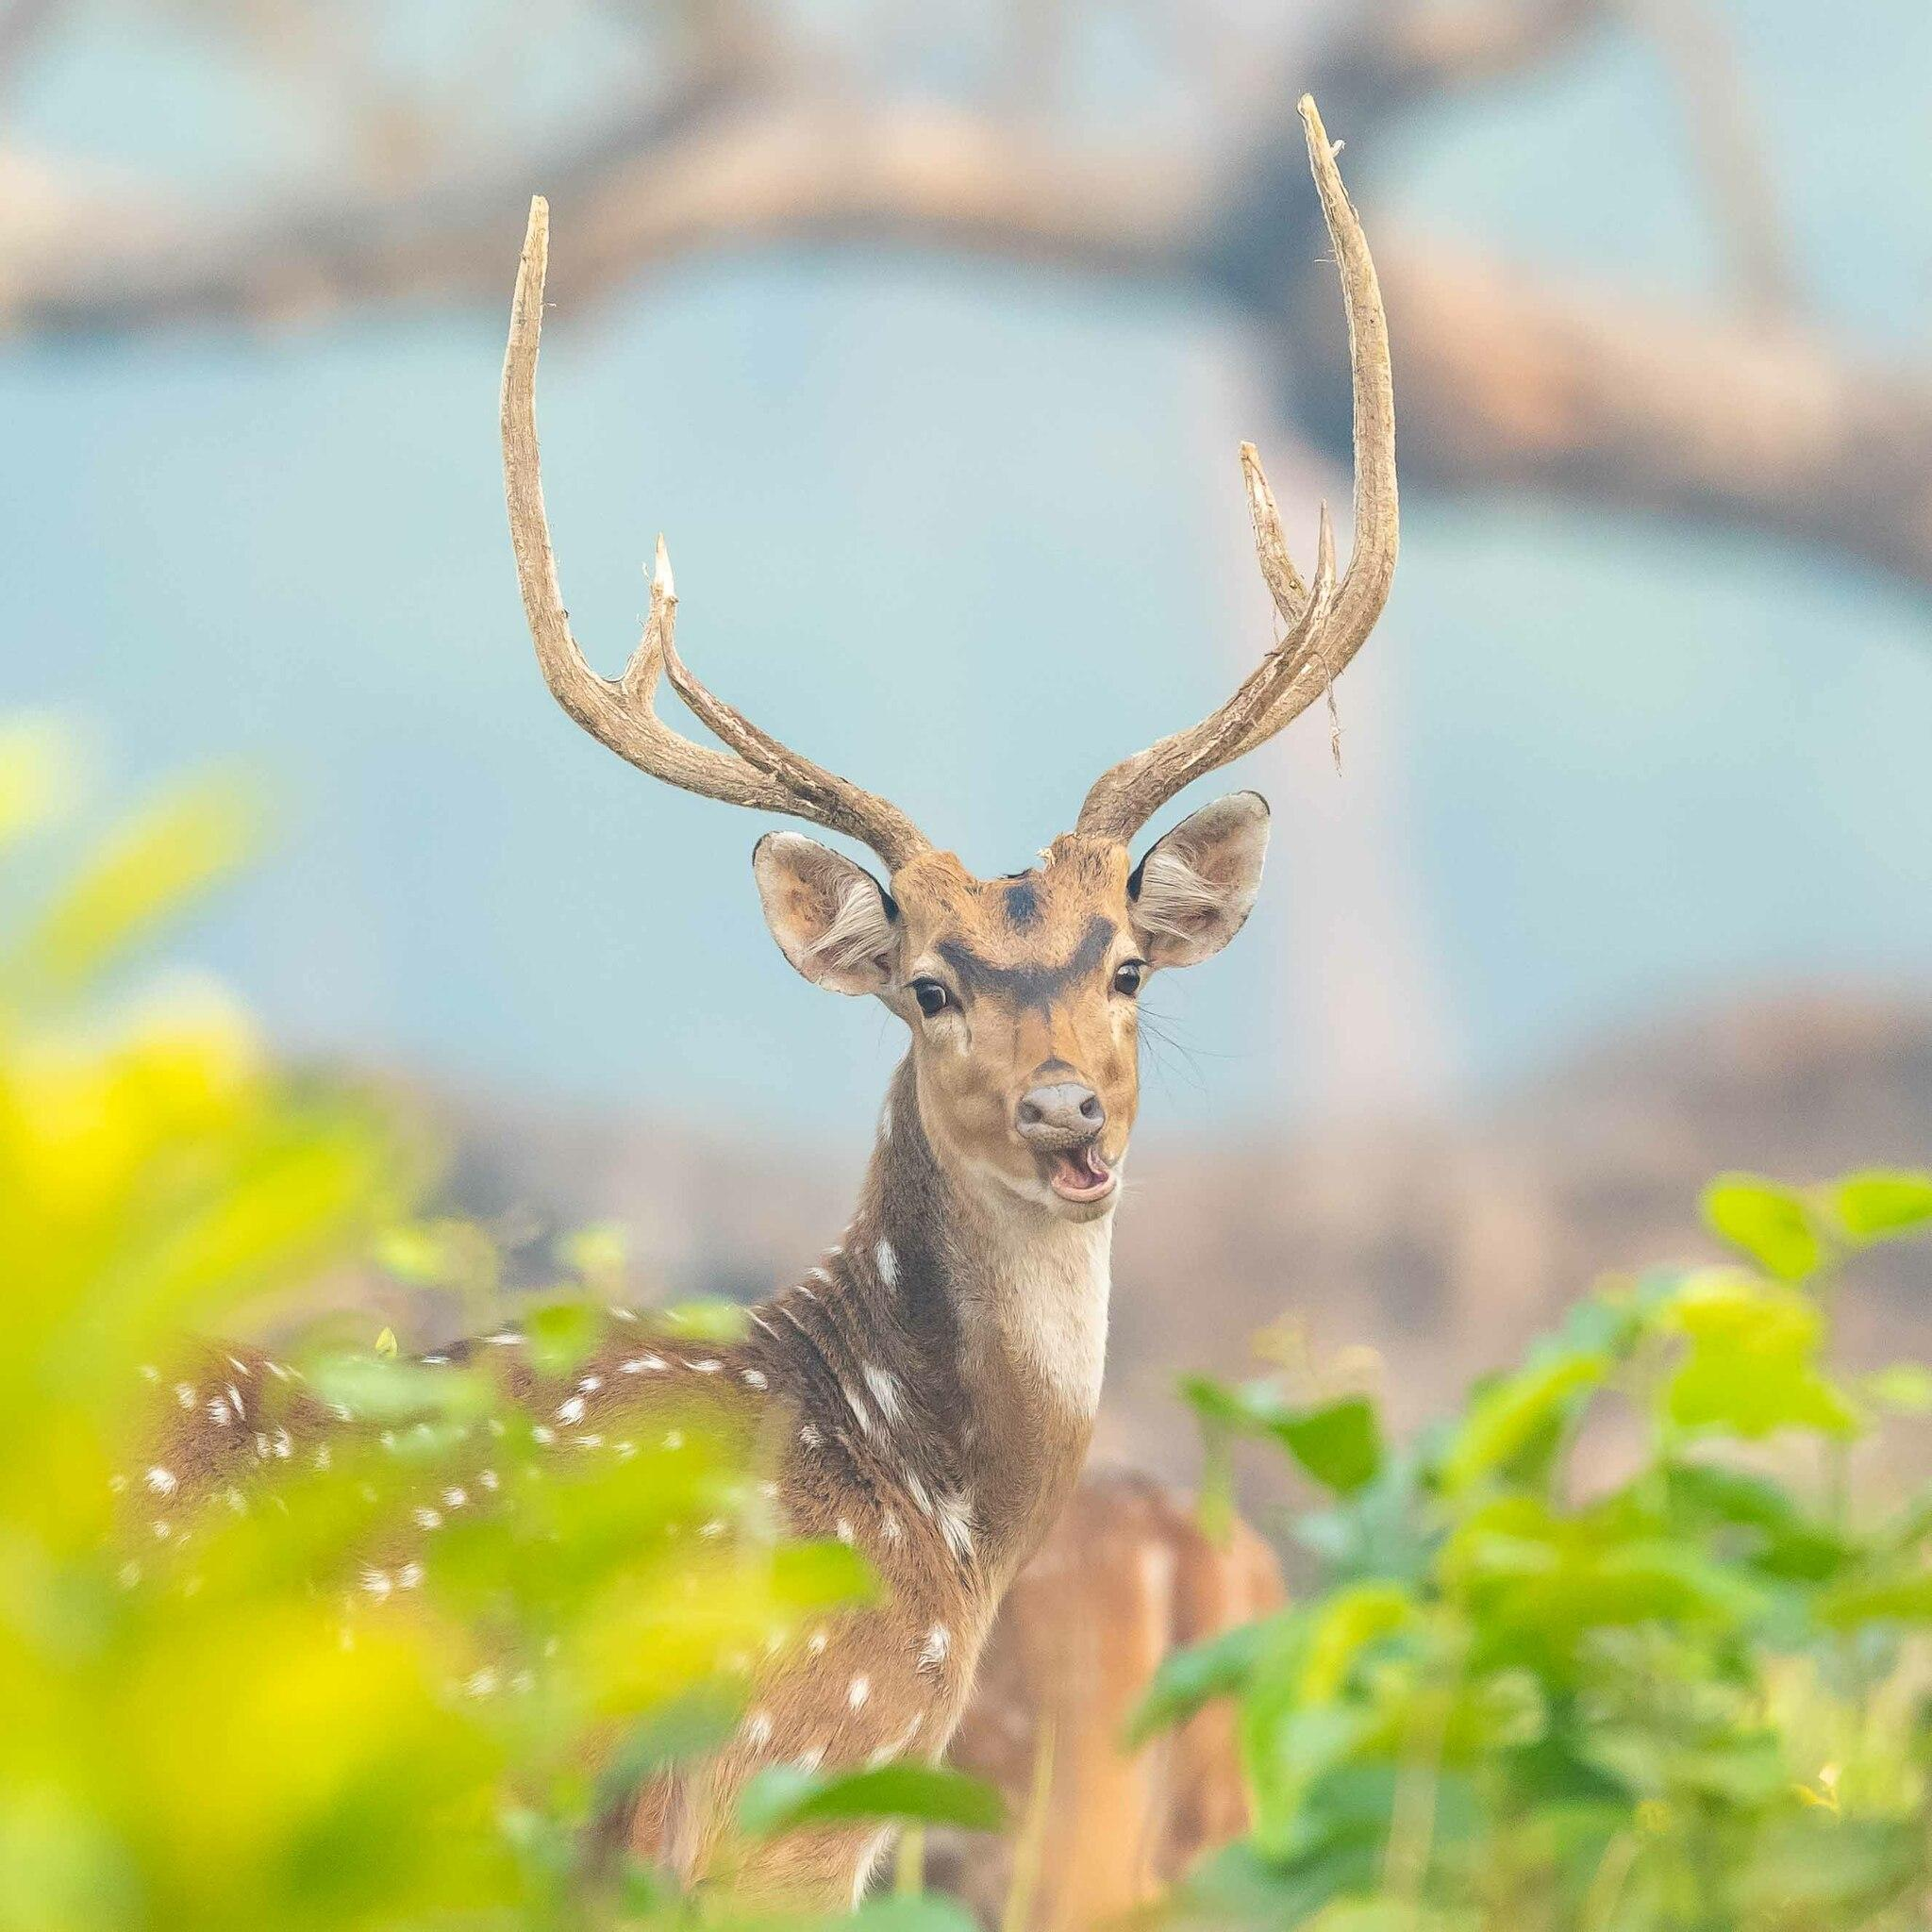Deer: (152, 117, 1398, 1881)
